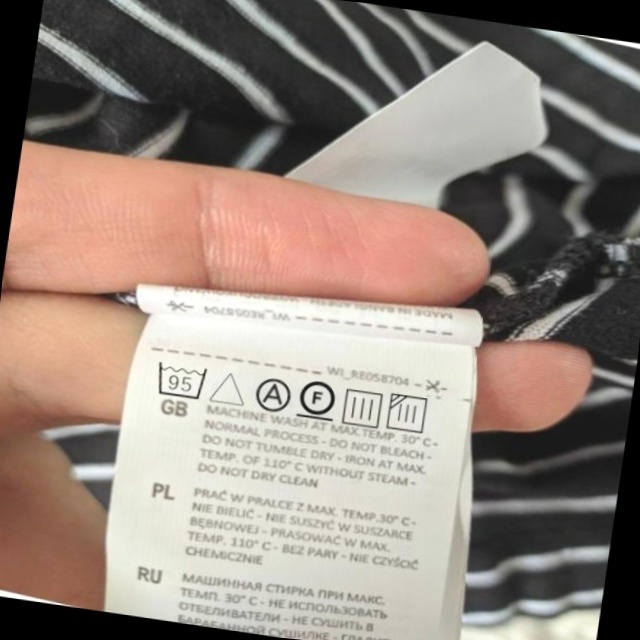95C: (152, 358, 211, 402)
bleach: (209, 365, 248, 410)
drip_dry: (339, 384, 387, 430)
drip_dry_in_shade: (385, 390, 434, 438)
dry_clean: (251, 374, 293, 414)
dry_clean_petrol_only: (296, 374, 340, 423)
